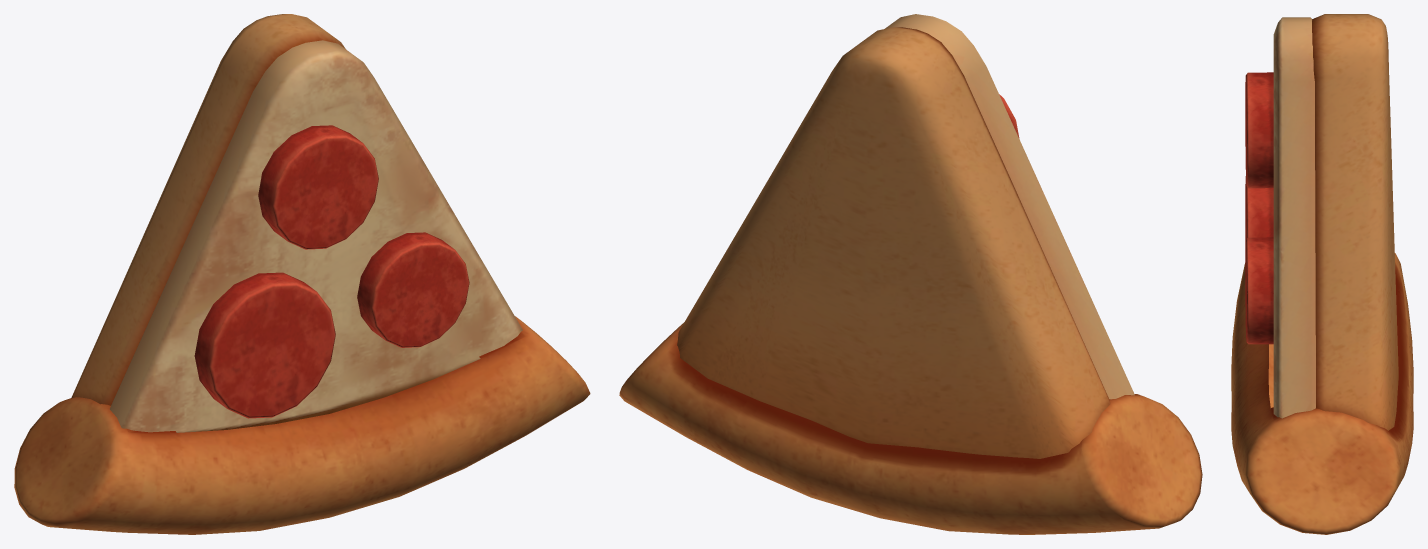
The model's file is pizza.fbx.
3 renders of one model, left to right at view 1: azimuth 30°, elevation 25°; view 2: azimuth 150°, elevation 25°; view 3: azimuth 270°, elevation 25°, orthographic. The views are drawn at different scales.
Visible parts, largest first — view 1: pizza; view 2: pizza; view 3: pizza.
Part boxes in pixels (bbox=[...]): pizza: bbox=[14, 14, 590, 534]; pizza: bbox=[619, 14, 1202, 534]; pizza: bbox=[1231, 14, 1413, 534].
Size of the model in its own units: 97.9 by 82.19 by 30.68.
